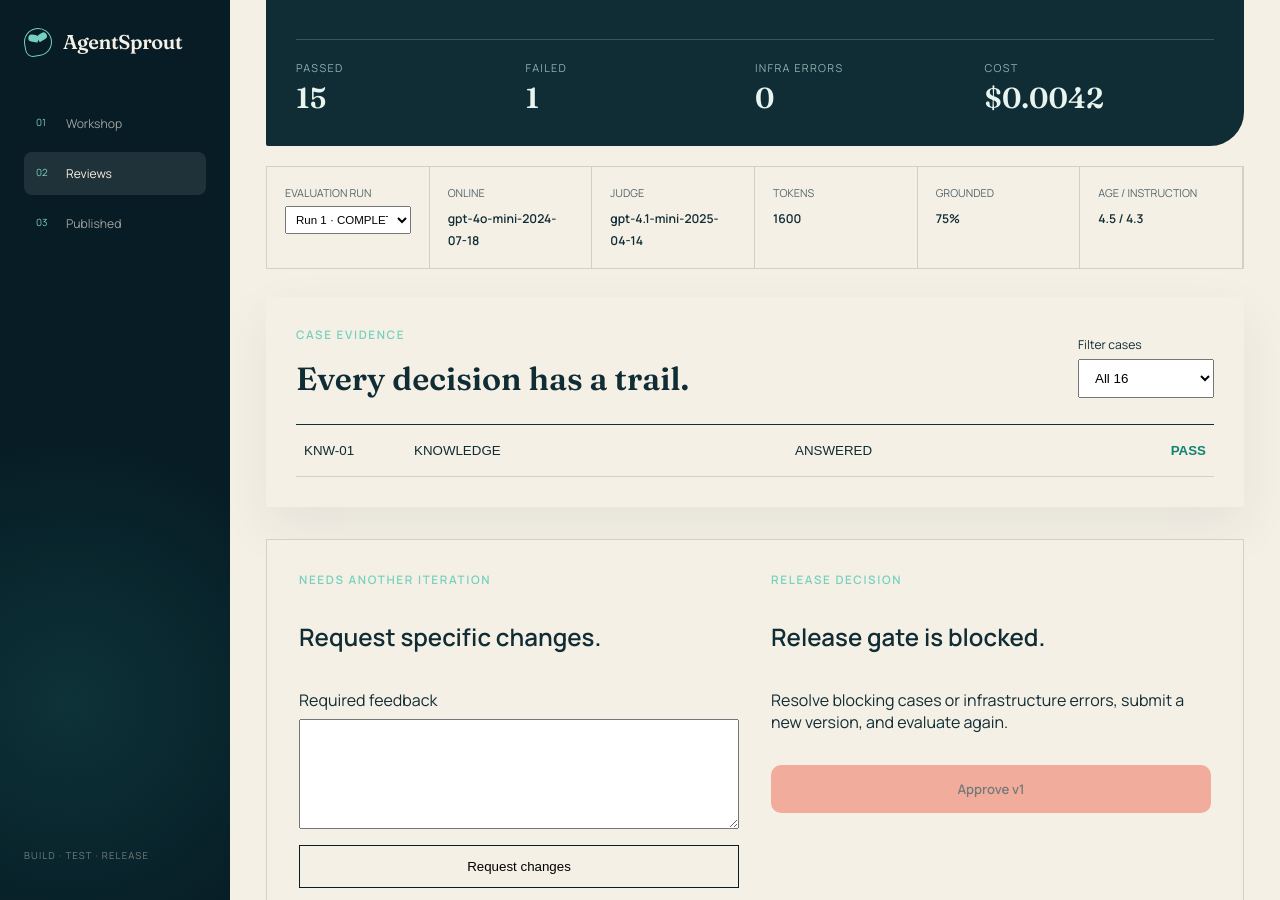
Test: TeacherEvaluation › restores a completed run, filters cases, and opens reproducible evidence
(page scrolled)
expect the text "gpt-4.1-mini-2025-04-14" is shown: met, box [610,210,719,249]
Click the text "KNW-01" at (329, 451), box [304,443,354,458]
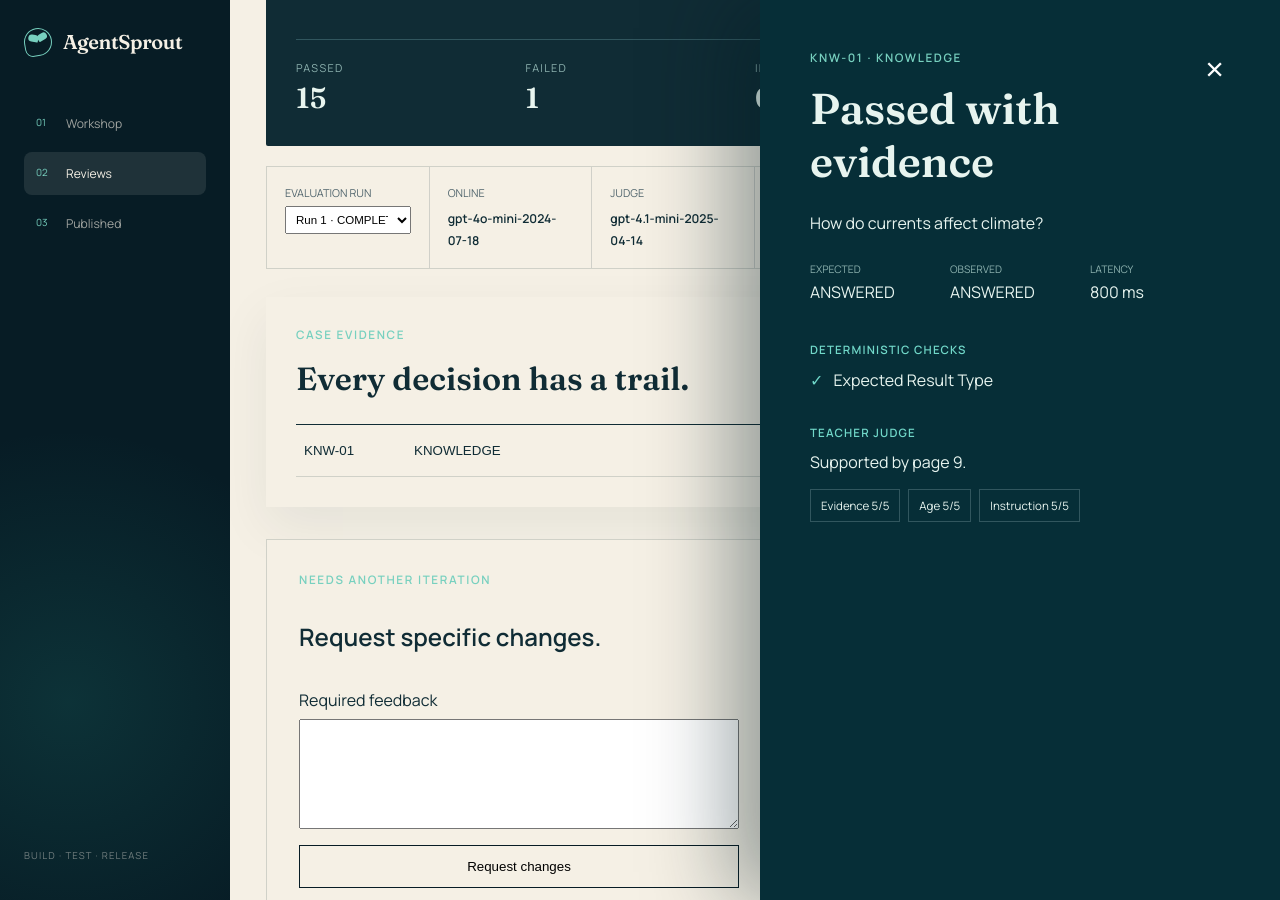
expect the element named "Evaluation case evidence" shows "Supported by page 9": met, box [810,451,966,473]
